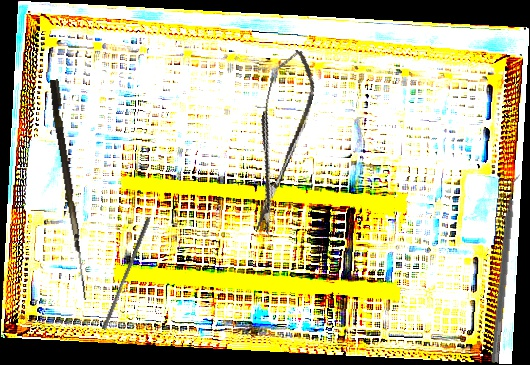Hook Surgical: (45, 79, 97, 300)
Micro Scissor: (234, 45, 324, 238)
Pusher: (101, 215, 151, 332)
Spatula Surgical: (490, 172, 524, 364)
